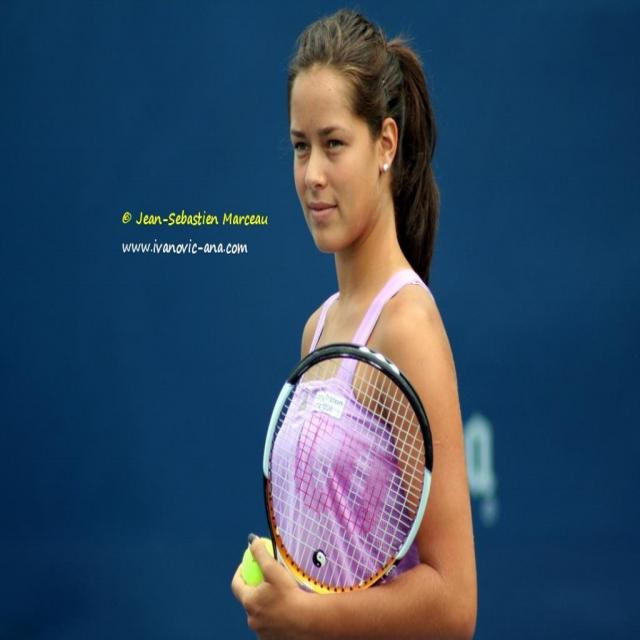nomask: (289, 66, 379, 253)
